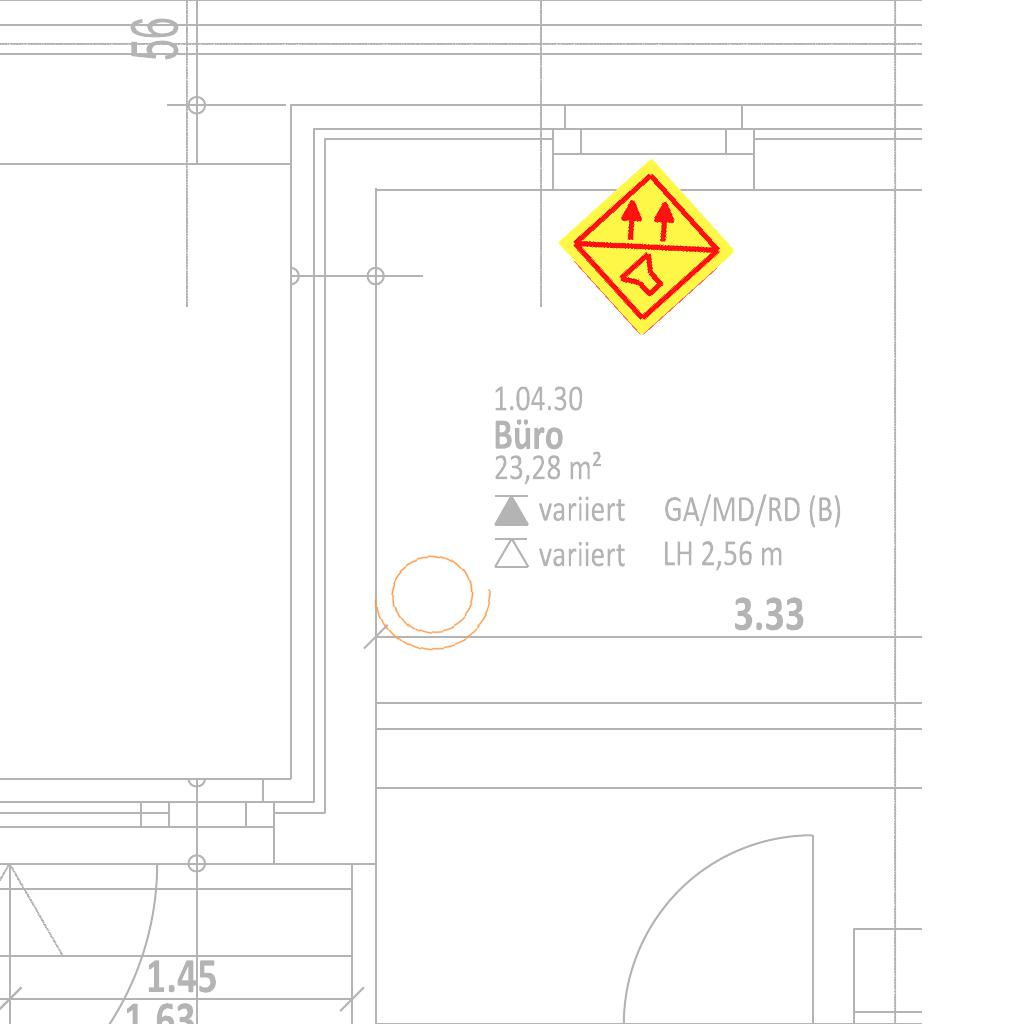OKW_Multisensormelder_(Kombination_optischer_Rauch-Kahlenmonoxid_Waerme-Melder): (553, 153, 741, 341)
Scheinwerfer_fuer_Alarmbeleuchtung: (365, 537, 507, 661)
